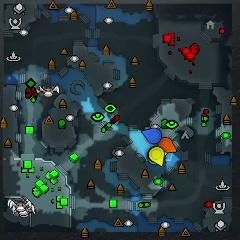p1: (140, 128, 162, 144)
p2: (148, 151, 168, 165)
p4: (149, 146, 164, 166)
p5: (159, 137, 178, 153)
